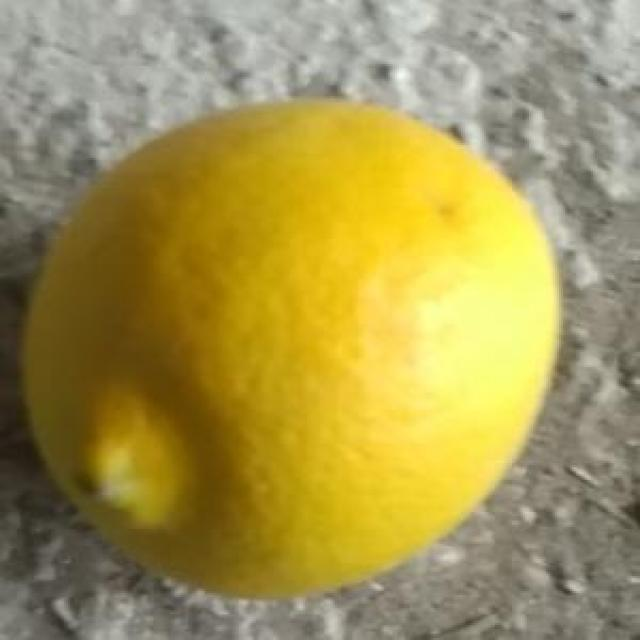lemon: (20, 93, 562, 604)
